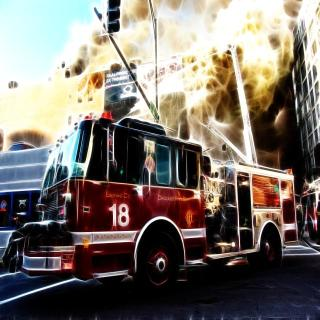Fire_truck: (7, 112, 300, 290)
